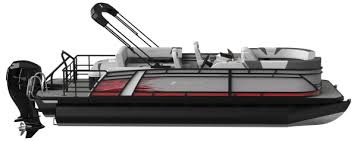boat: (6, 2, 351, 139)
